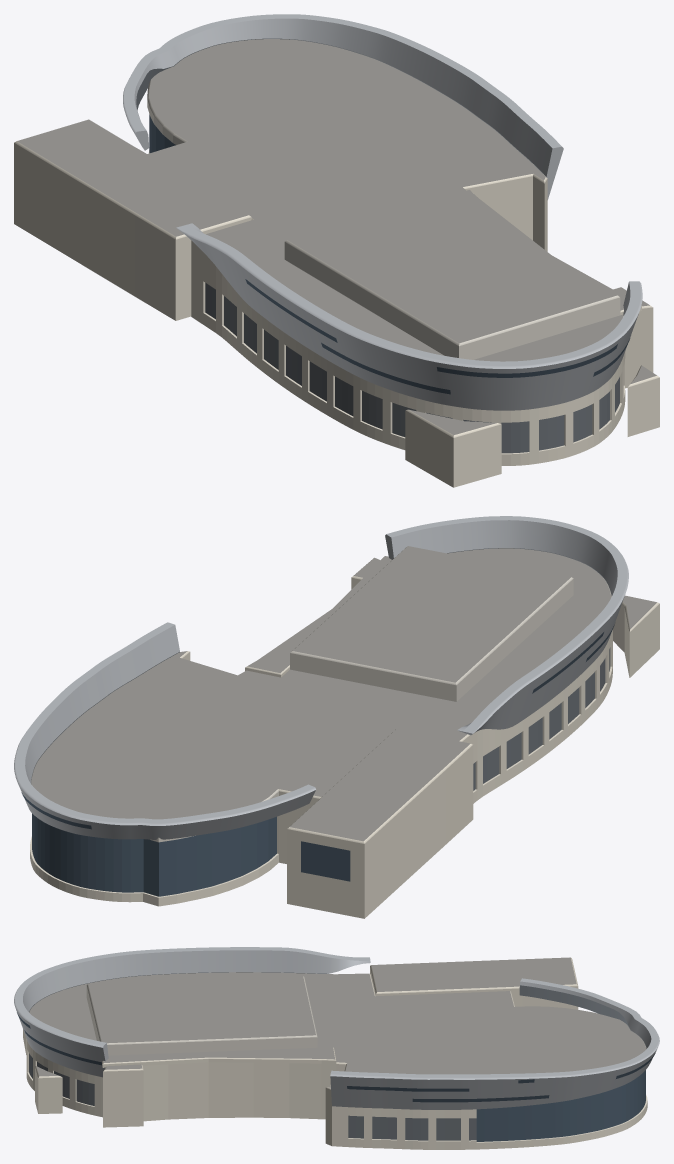
The model's file is nascar-hall-of-fame.glb.
3 views of the same model, one above another, from view 1: azimuth 30°, elevation 25°; view 2: azimuth 150°, elevation 25°; view 3: azimuth 270°, elevation 25° (orthographic). The views are drawn at different scales.
Parts seen in each view (by area): view 1: NASCAR Hall of Fame; view 2: NASCAR Hall of Fame; view 3: NASCAR Hall of Fame.
Part boxes in pixels (left/top/right/bottom): NASCAR Hall of Fame: left=14, top=14, right=659, bottom=487; NASCAR Hall of Fame: left=14, top=516, right=659, bottom=918; NASCAR Hall of Fame: left=14, top=947, right=659, bottom=1149.
Bounding box in the file's own units: 104 × 27 × 205.
